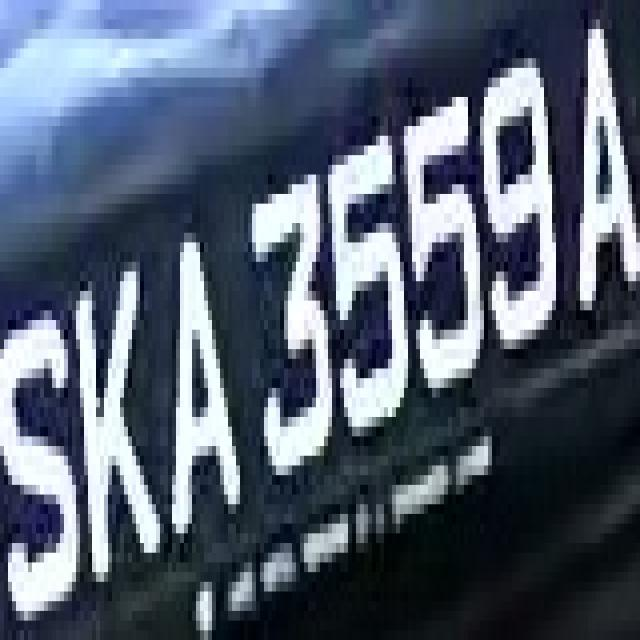3: (228, 146, 336, 504)
5: (396, 29, 488, 407), (320, 126, 416, 446)
9: (468, 58, 564, 378)
A: (152, 194, 252, 591), (560, 9, 632, 368)
K: (68, 223, 168, 592)
S: (0, 4, 1, 10)
